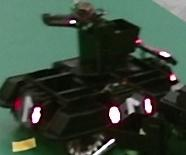armor_1: (109, 98, 152, 123)
front_1: (18, 93, 36, 128)
left_1: (121, 93, 146, 120)
